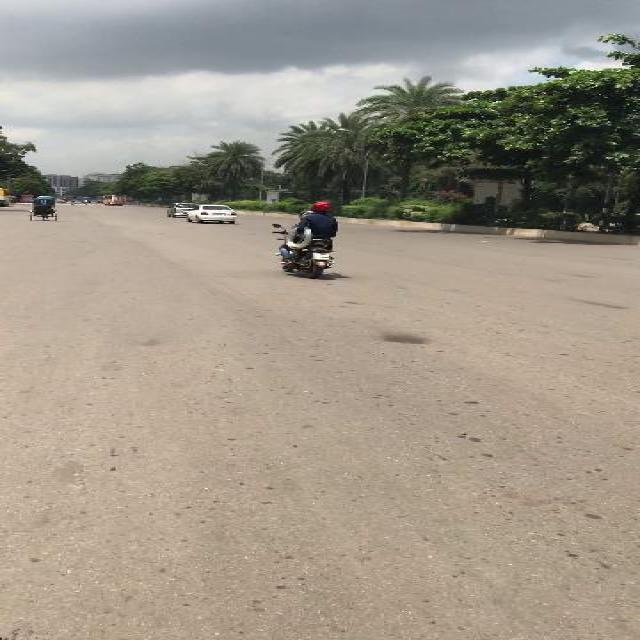bike: (272, 201, 342, 281)
vehicle: (185, 205, 237, 225), (29, 196, 59, 223), (164, 204, 190, 219), (101, 196, 126, 207), (69, 200, 76, 207)
